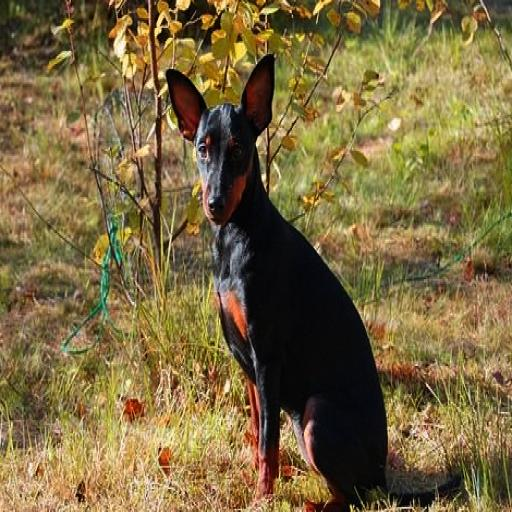dog_face: (171, 55, 273, 224)
